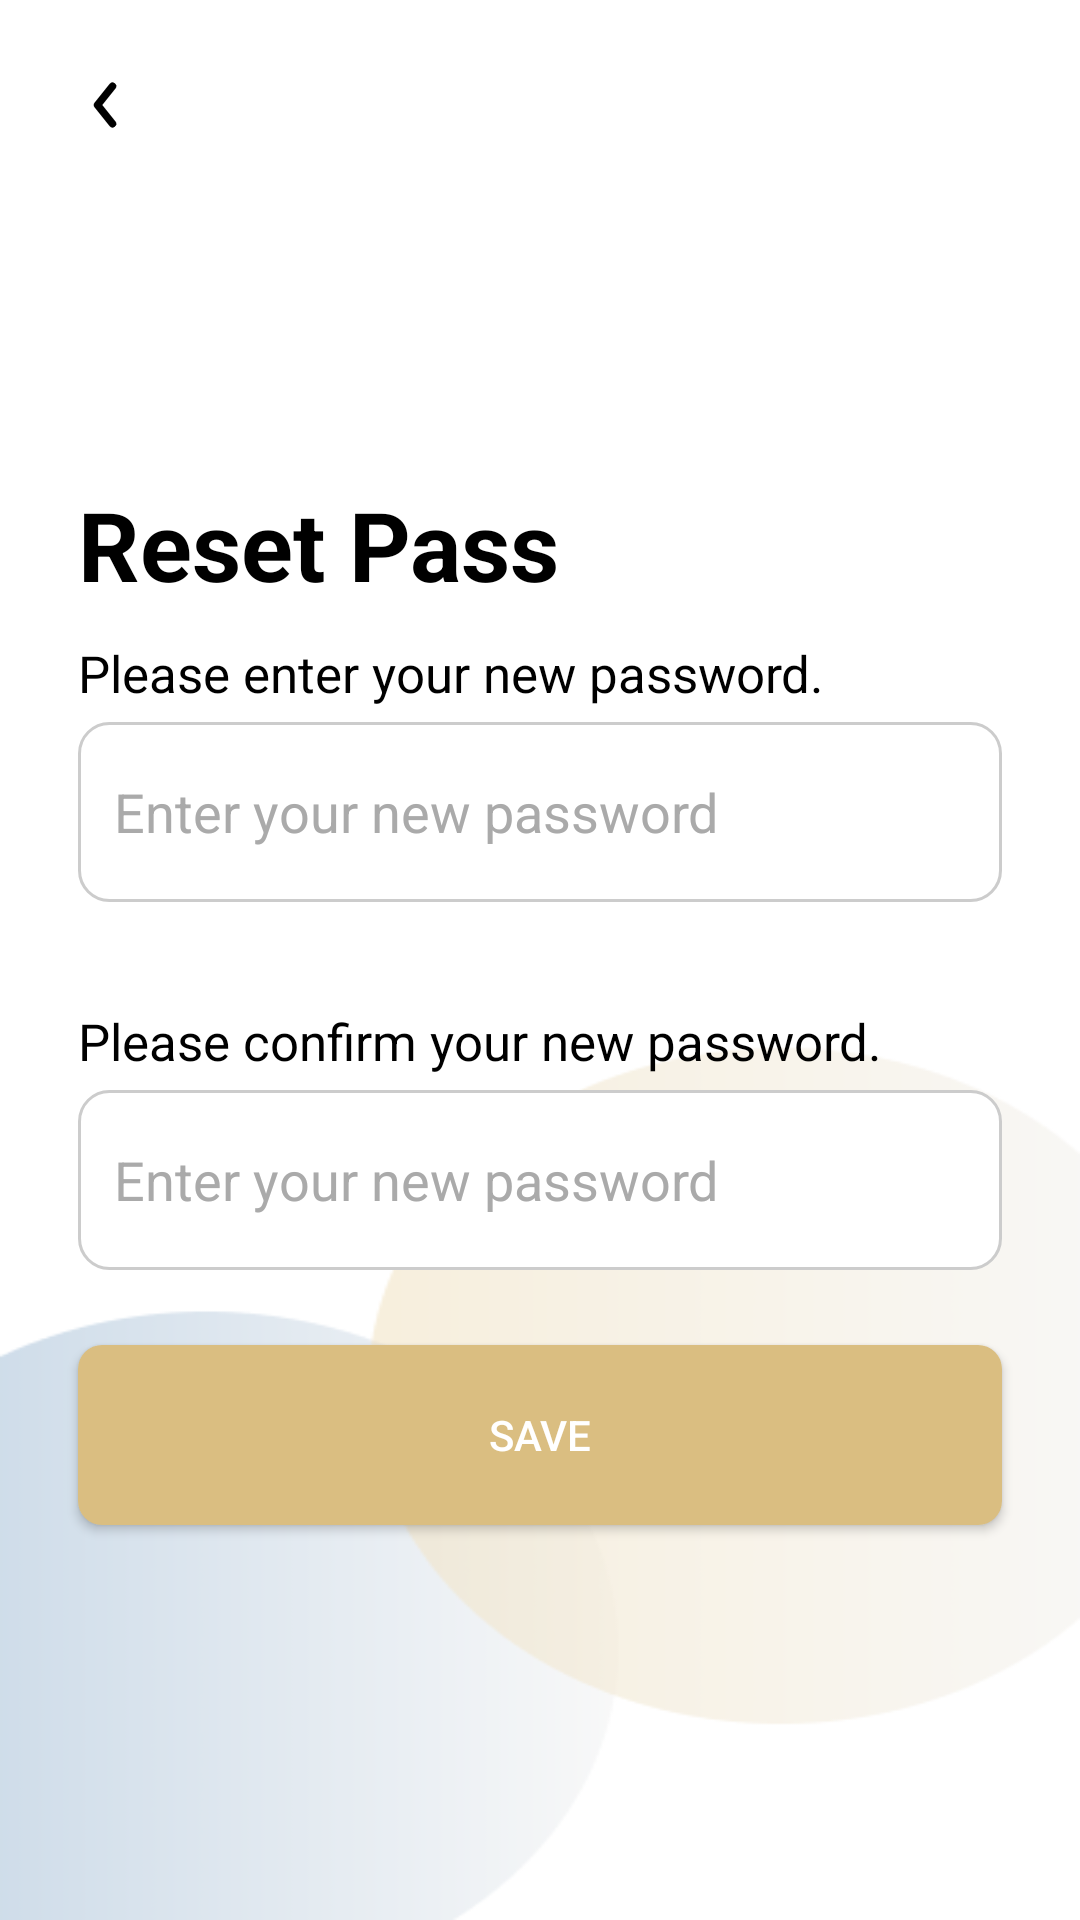

Icon click points for this 1080w x 1920h phone screenshot, format point (x, y):
Back Button: point (105, 105)
